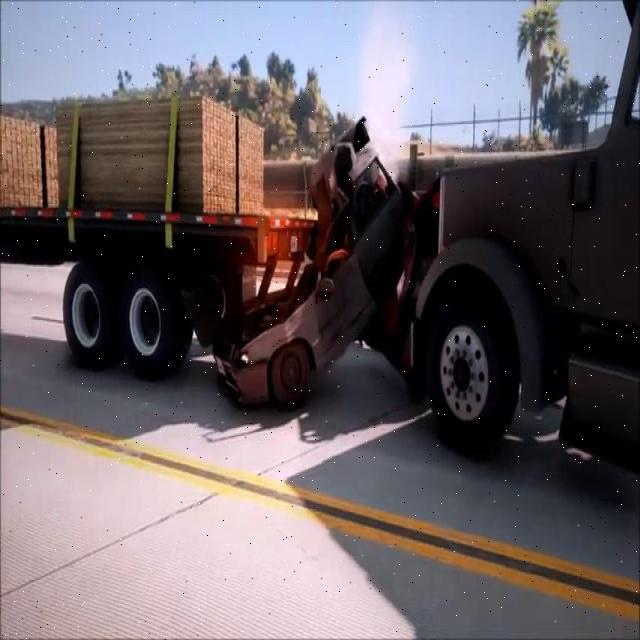severe: (0, 0, 640, 483)
